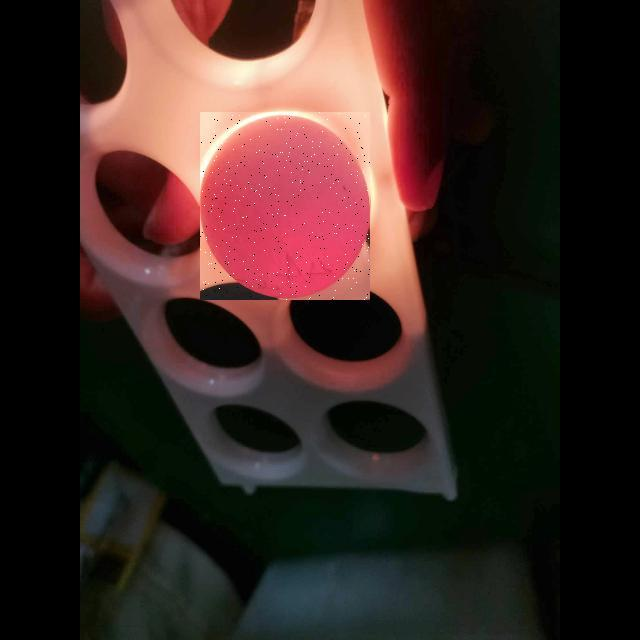Infertile: (200, 112, 370, 300)
